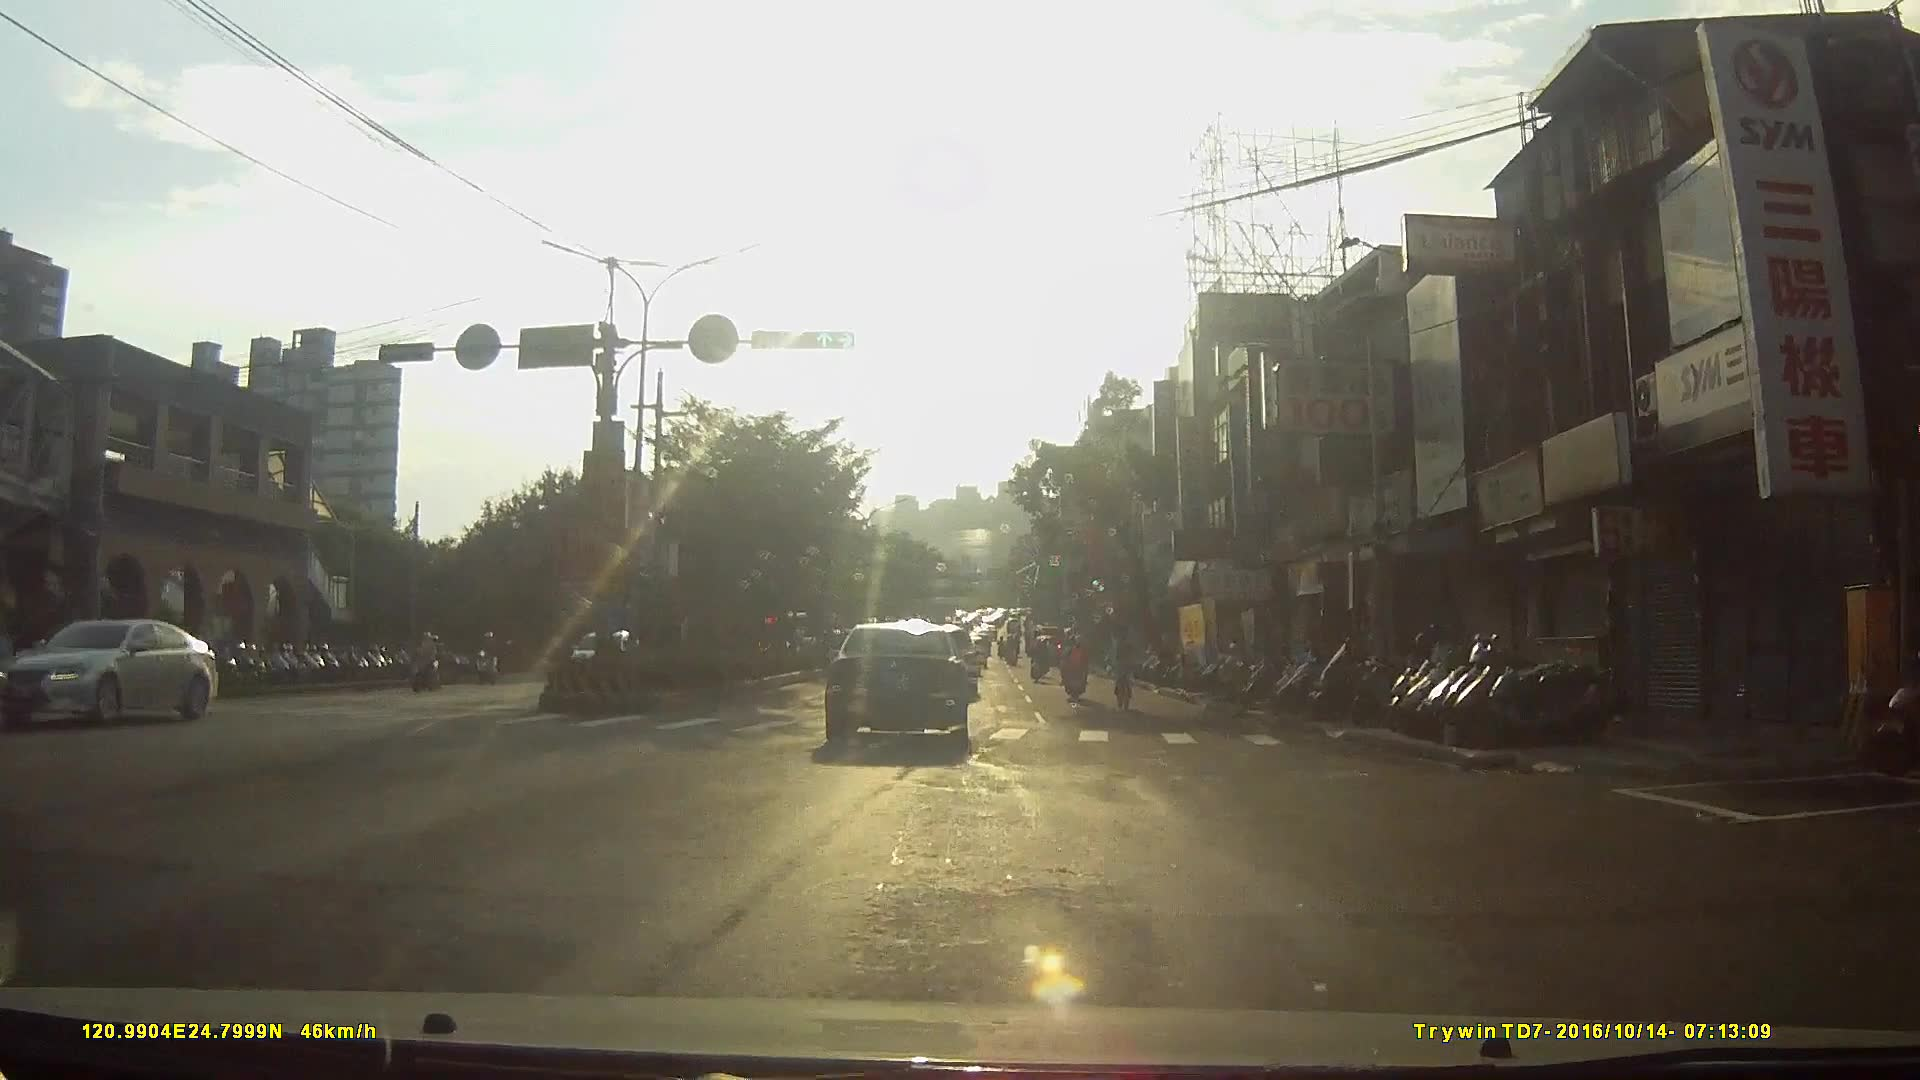rider: (1109, 624, 1137, 714), (1062, 635, 1089, 704), (410, 631, 439, 692), (475, 628, 503, 686), (1028, 632, 1053, 686)
vehicle: (13, 615, 212, 735), (829, 608, 987, 751)
